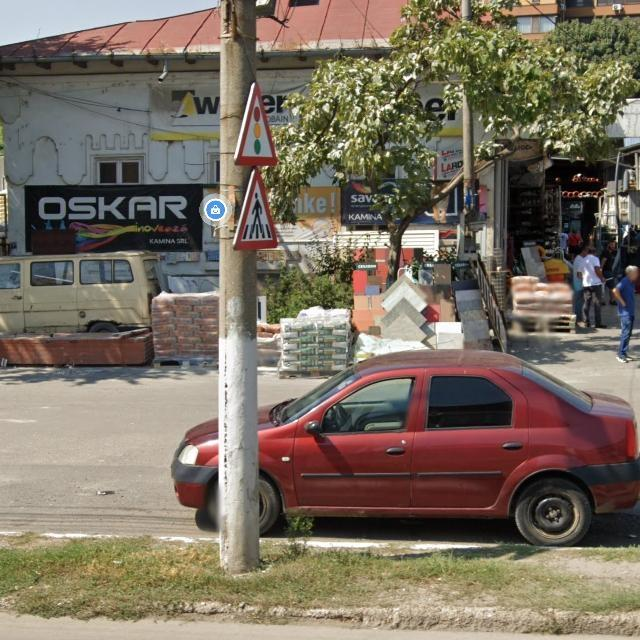warn_crosswalk: (231, 166, 279, 250)
